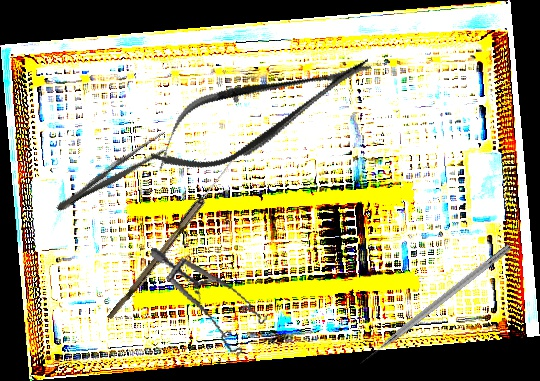Dressing Forceps: (51, 128, 175, 219)
Hook Surgical: (356, 242, 513, 368)
Micro Scissor: (137, 33, 386, 191)
Speculum: (132, 247, 277, 361)
Surgical Spoon: (107, 155, 237, 323)
